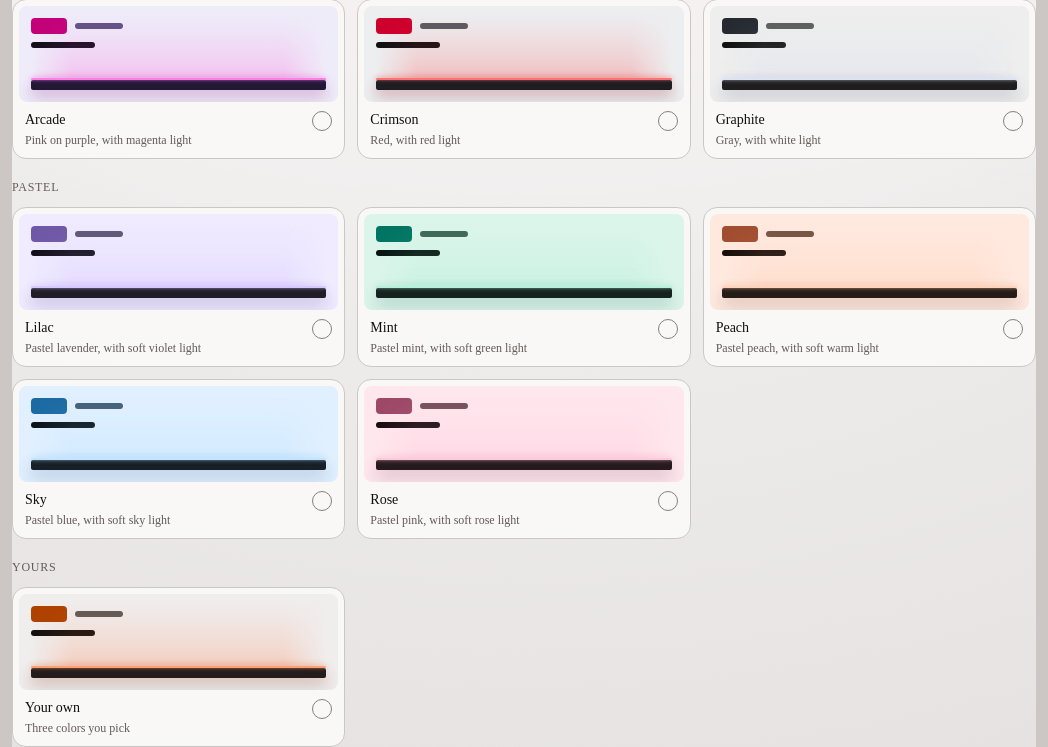
Test: ColorwayPicker › makes one's own from the colorway on screen, and opens its three colors
(page scrolled)
Expected: the element "Your colors" is not shown
Click the radio button labelled "Your own". click: click(179, 667)
box: [12,587,345,746]
(page scrolled)
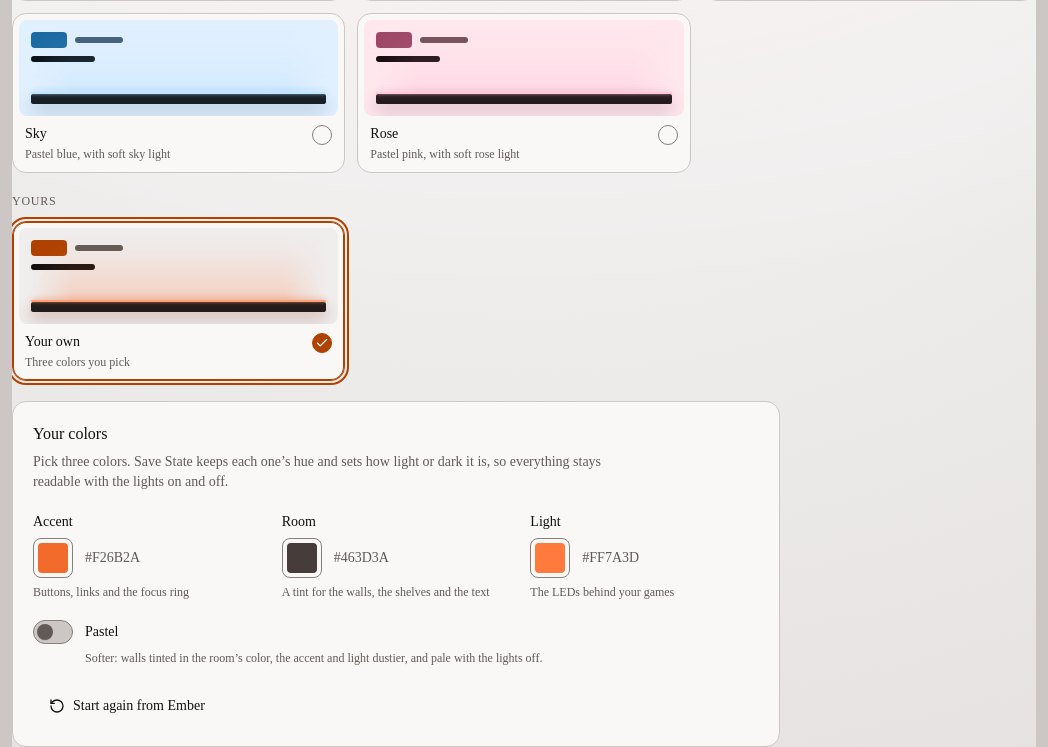
Expected: the colour field labelled "Accent" holds "#f26b2a", [33,538,73,578]
Expected: the colour field labelled "Light" holds "#ff7a3d", [530,538,570,578]
